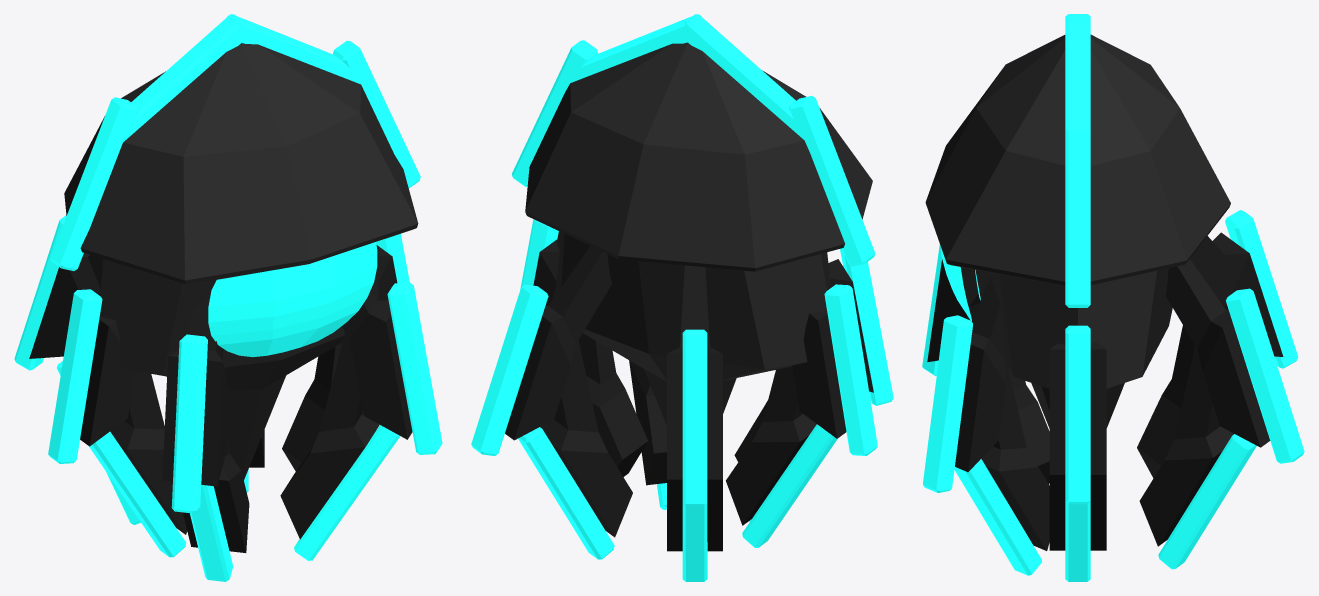
The model's file is squid.glb.
The picture shows the model from 3 angles, left to right: view 1: azimuth 30°, elevation 25°; view 2: azimuth 150°, elevation 25°; view 3: azimuth 270°, elevation 25°; orthographic projection.
Parts seen in each view (by area): view 1: Cylinder.019_Cylinder.009, Cylinder.018_Cylinder.006, Plane.050_Plane.012, Cube.058_Cube.013, Cube.056_Cube.013, Cube.052_Cube.013, Cube.049_Cube.014, Cube.055_Cube.014, Cube.057_Cube.014, Cube.072_Cube.014, Cube.050_Cube.013, Cube.048_Cube.013 (+12 smaller); view 2: Cylinder.019_Cylinder.009, Cylinder.018_Cylinder.006, Cube.068_Cube.013, Cube.069_Cube.013, Cube.050_Cube.013, Cube.064_Cube.013, Cube.071_Cube.014, Cube.049_Cube.014, Cube.061_Cube.013, Cube.065_Cube.014, Cube.072_Cube.014, Cube.048_Cube.013 (+12 smaller); view 3: Cylinder.019_Cylinder.009, Cylinder.018_Cylinder.006, Cube.068_Cube.013, Cube.069_Cube.013, Cube.056_Cube.013, Cube.071_Cube.014, Cube.058_Cube.013, Cube.057_Cube.014, Cube.075_Cube.014, Cube.063_Cube.014, Cube.060_Cube.013, Cube.070_Cube.014 (+11 smaller).
Boxes of the visible parts, <box> form: Cylinder.019_Cylinder.009: <box>64,43,418,284</box>; Cylinder.018_Cylinder.006: <box>99,259,378,480</box>; Plane.050_Plane.012: <box>208,242,377,357</box>; Cube.058_Cube.013: <box>280,333,379,539</box>; Cube.056_Cube.013: <box>342,291,412,439</box>; Cube.052_Cube.013: <box>162,297,229,486</box>; Cube.049_Cube.014: <box>48,289,102,463</box>; Cube.055_Cube.014: <box>171,334,207,513</box>; Cube.057_Cube.014: <box>387,282,442,454</box>; Cube.072_Cube.014: <box>50,97,138,270</box>; Cube.050_Cube.013: <box>110,371,187,534</box>; Cube.048_Cube.013: <box>80,316,135,446</box>; Cylinder.019_Cylinder.009: <box>525,42,872,271</box>; Cylinder.018_Cylinder.006: <box>553,231,830,425</box>; Cube.068_Cube.013: <box>505,246,612,440</box>; Cube.069_Cube.013: <box>540,340,632,537</box>; Cube.050_Cube.013: <box>726,366,816,525</box>; Cube.064_Cube.013: <box>667,265,722,479</box>; Cube.071_Cube.014: <box>471,284,548,455</box>; Cube.049_Cube.014: <box>824,284,877,455</box>; Cube.061_Cube.013: <box>578,333,647,476</box>; Cube.065_Cube.014: <box>682,329,707,506</box>; Cube.072_Cube.014: <box>789,96,875,266</box>; Cube.048_Cube.013: <box>792,311,846,438</box>; Cylinder.019_Cylinder.009: <box>925,34,1230,285</box>; Cylinder.018_Cylinder.006: <box>975,268,1172,428</box>; Cube.068_Cube.013: <box>1166,259,1270,447</box>; Cube.069_Cube.013: <box>1139,345,1233,546</box>; Cube.056_Cube.013: <box>955,277,1006,471</box>; Cube.071_Cube.014: <box>1225,288,1304,463</box>; Cube.058_Cube.013: <box>981,358,1049,550</box>; Cube.057_Cube.014: <box>923,315,972,492</box>; Cube.075_Cube.014: <box>1065,127,1090,307</box>; Cube.063_Cube.014: <box>1065,325,1090,504</box>; Cube.060_Cube.013: <box>1049,342,1106,474</box>; Cube.070_Cube.014: <box>1158,434,1256,569</box>.
Bounding box in the file's own units: 3.26 × 4.5 × 2.92.
